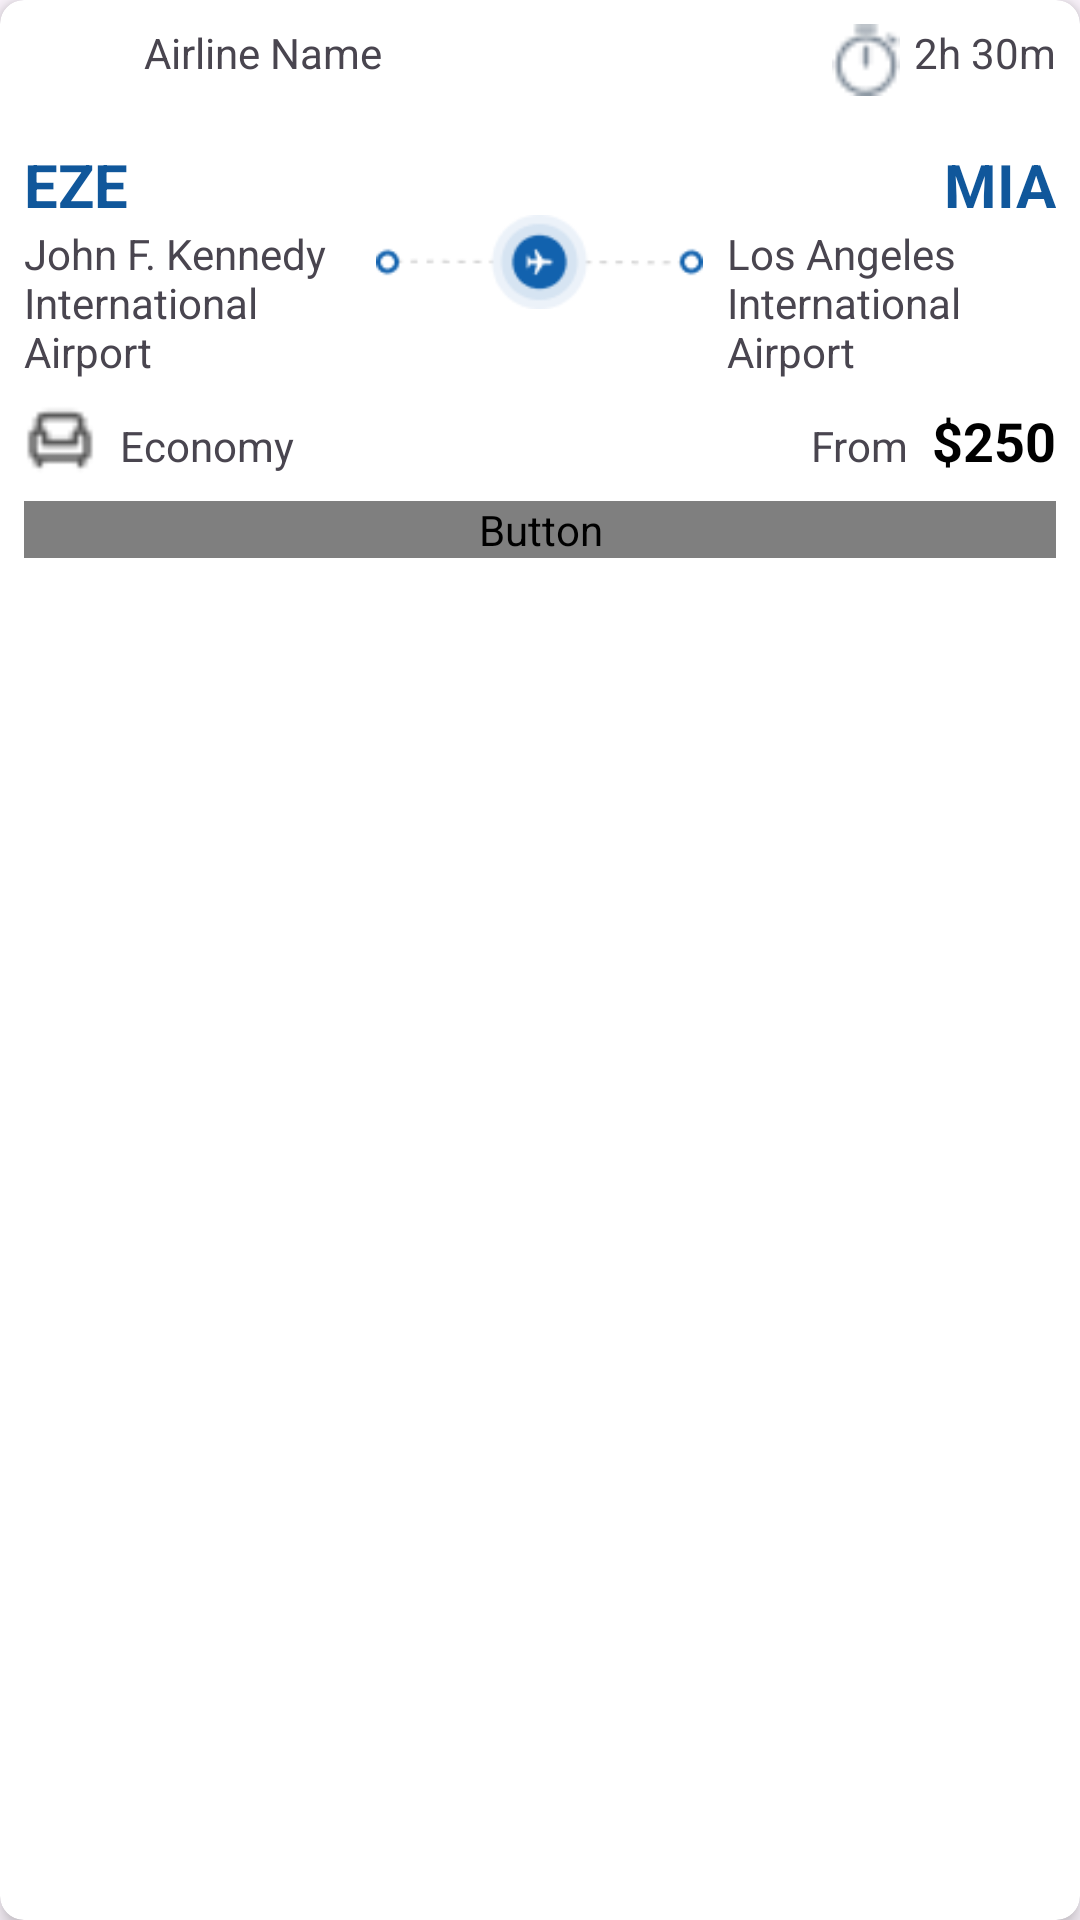

Where to tap for icons on this 1080px x 1920px app screen, as [x,y]:
chair: [60,440]
